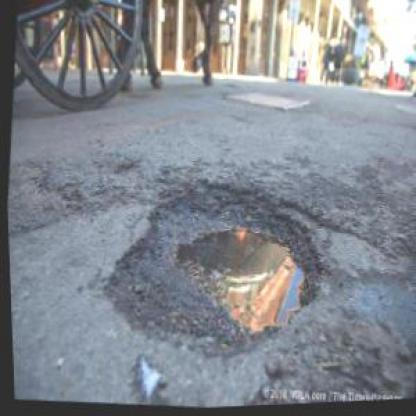pothole: (87, 162, 333, 370)
